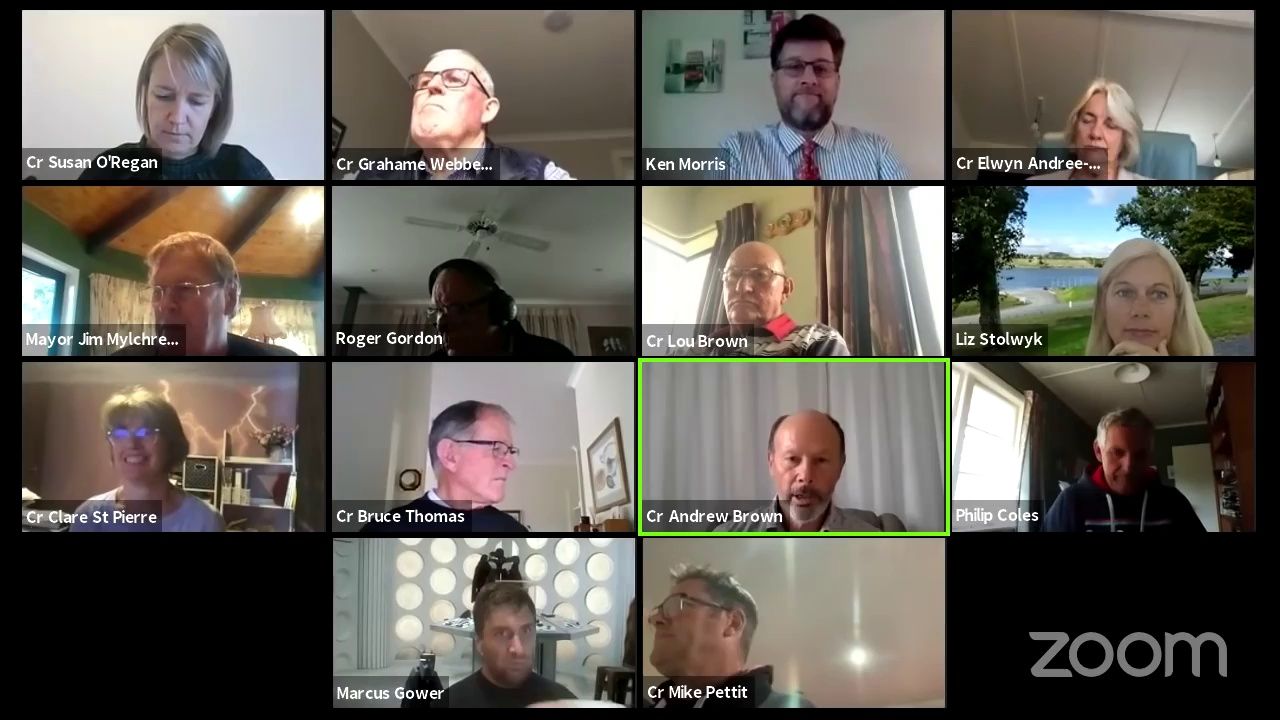Distracted: (646, 558, 746, 675), (135, 37, 231, 153), (399, 39, 494, 156), (1054, 71, 1152, 171), (434, 396, 522, 500), (426, 264, 513, 348)
Not Distracted: (136, 226, 239, 342), (1071, 398, 1174, 503), (752, 25, 849, 132), (758, 410, 848, 521), (85, 392, 189, 484), (1088, 251, 1184, 348), (471, 583, 554, 688), (712, 237, 795, 334)
